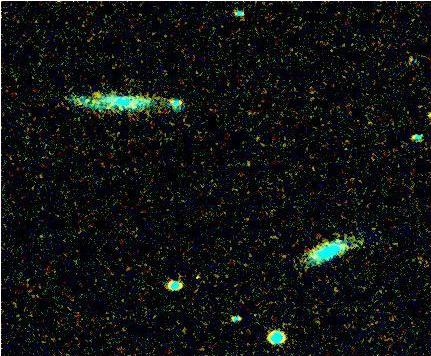star: (82, 79, 112, 109)
